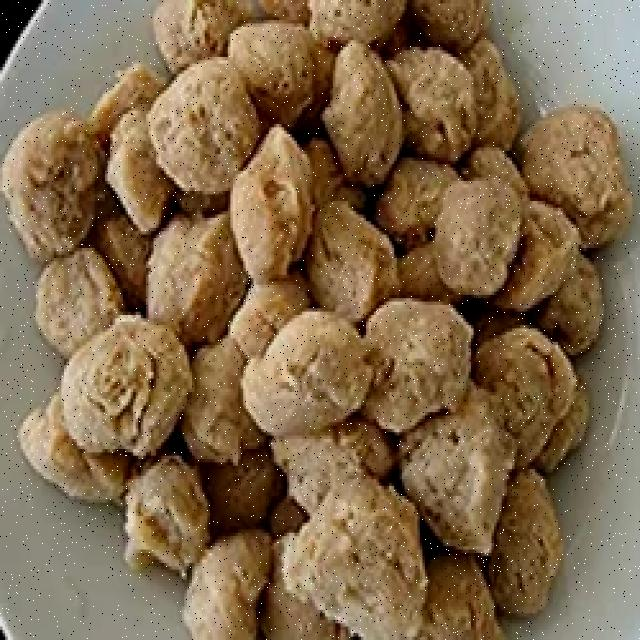Soy Chunks: (166, 64, 568, 618)
